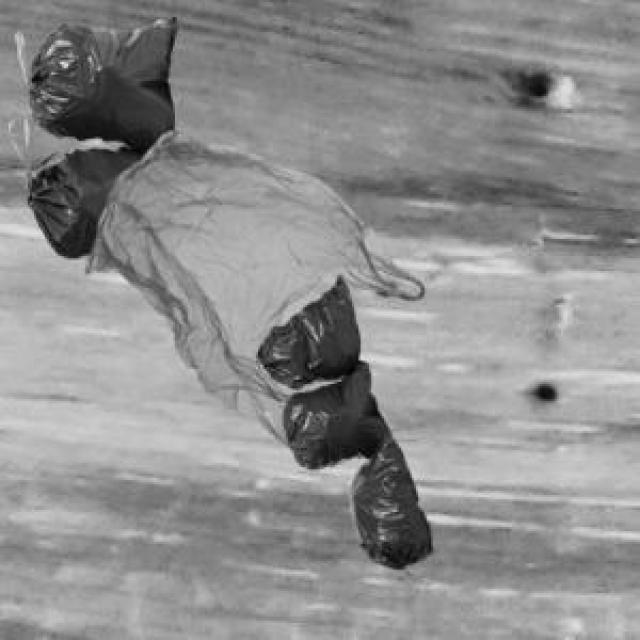miscellaneous trash: (254, 271, 427, 565), (11, 13, 173, 256)
